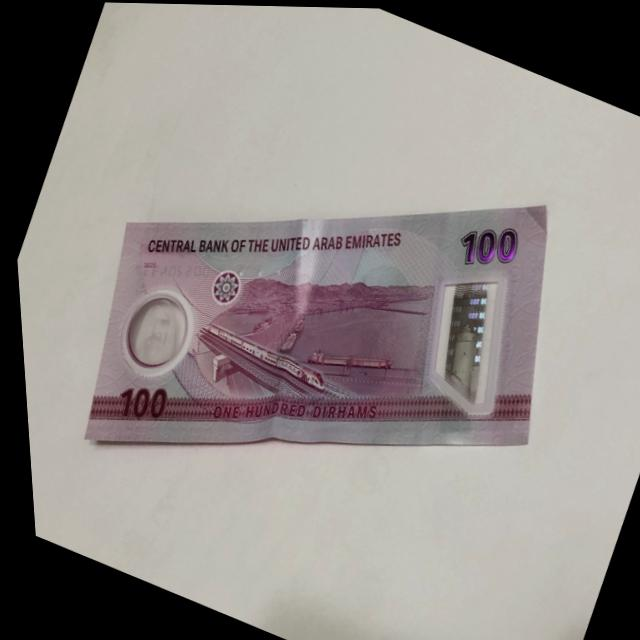100_AED: (85, 198, 552, 443)
